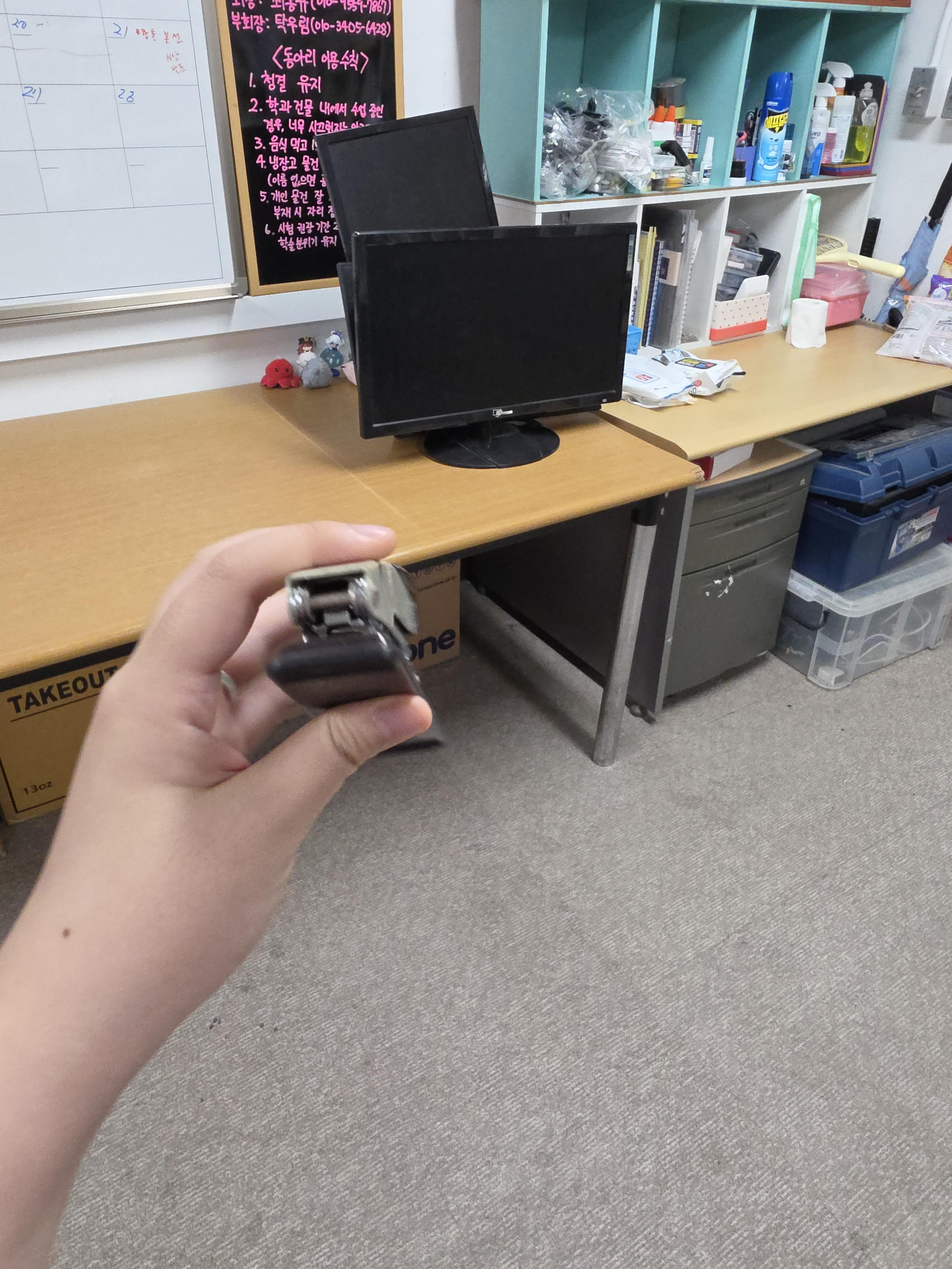stapler: (265, 560, 445, 752)
tissue: (710, 274, 770, 341), (789, 298, 828, 349)
